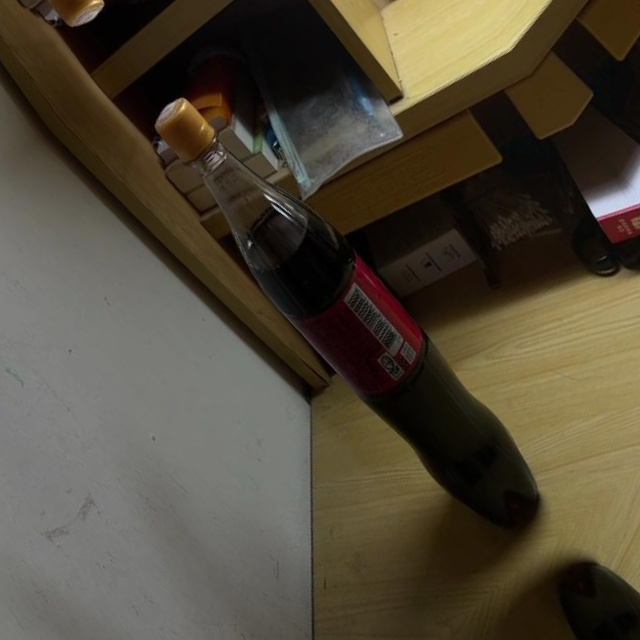Coca-Cola: (134, 72, 559, 553)
